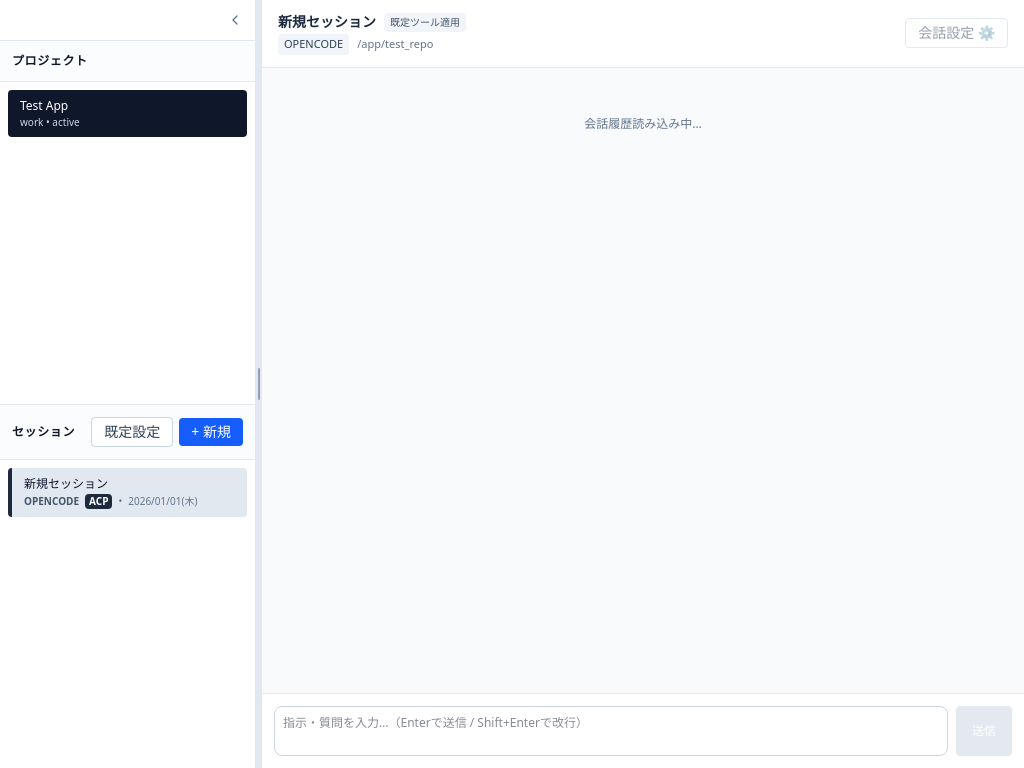
CodingPage › ignores duplicate eventId (at-least-once redelivery)
Expected: the text "Test App" is shown, [20,97,68,114]
In the text box with placeholder "指示・質問を入力…（Enterで送信 / Shift+Enterで改行）": (611,731) [274,706,948,756], type "重複テスト"
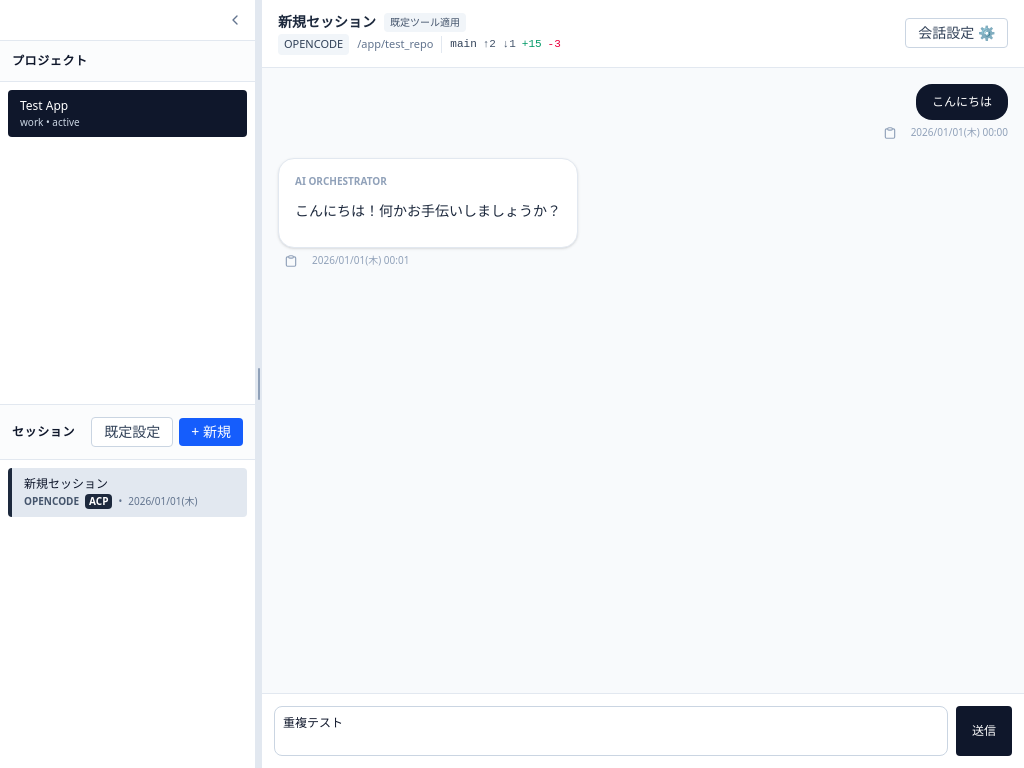
Click the button "送信": (984,731) [956,706,1012,756]
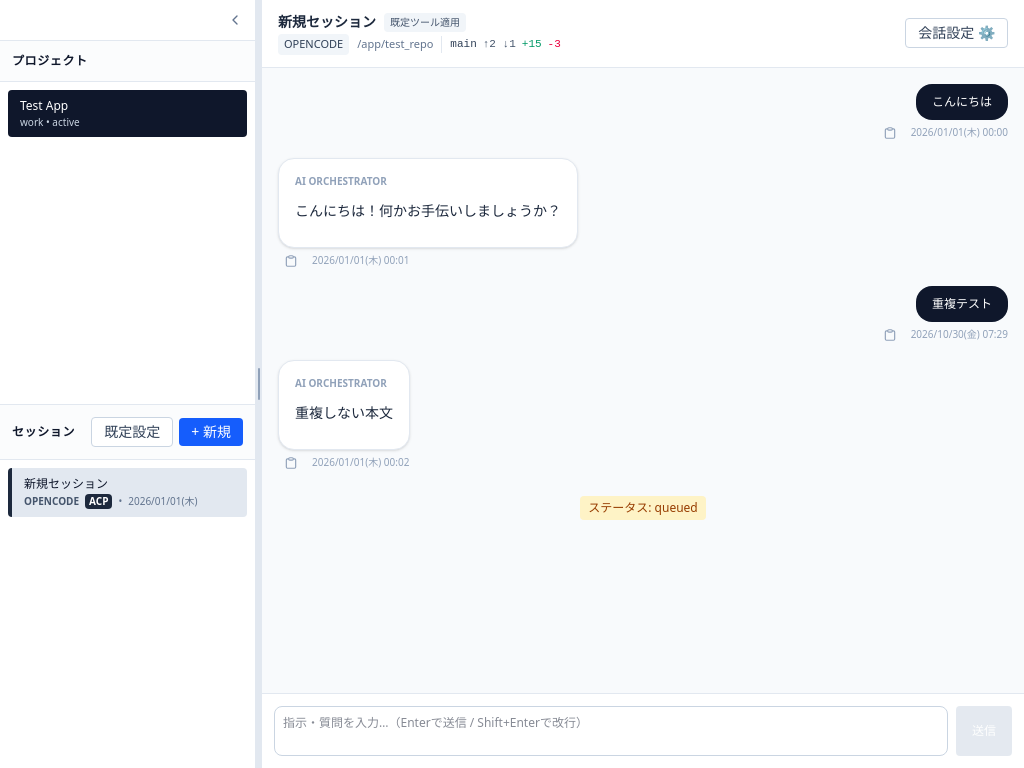
Expected: the text "重複しない本文" is shown once, [295,402,393,425]
